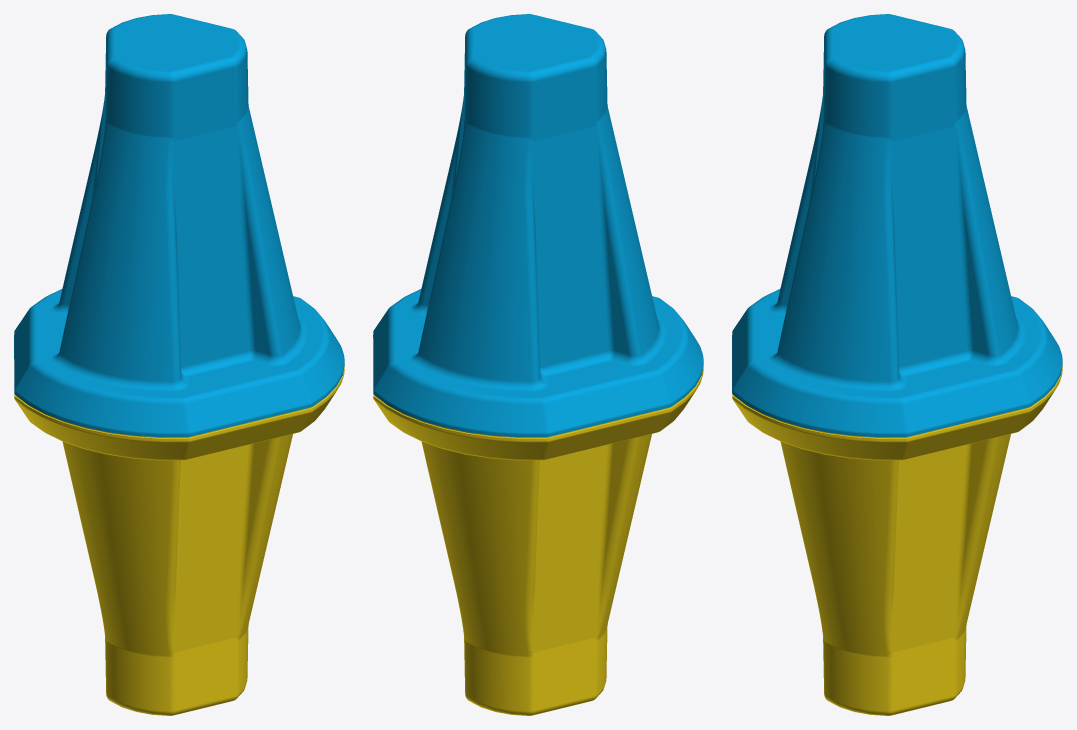
Rendered from V5RC-Override-H2H-_-BlueYellowPin.glb.
3 renders of one model, left to right at view 1: azimuth 30°, elevation 25°; view 2: azimuth 150°, elevation 25°; view 3: azimuth 270°, elevation 25°, orthographic.
Visible parts, largest first — view 1: V5RC-Override-H2H-_-BlueYellowPin; view 2: V5RC-Override-H2H-_-BlueYellowPin; view 3: V5RC-Override-H2H-_-BlueYellowPin.
Boxes of the visible parts, left/top/right/bottom form: V5RC-Override-H2H-_-BlueYellowPin: left=14, top=14, right=344, bottom=715; V5RC-Override-H2H-_-BlueYellowPin: left=373, top=14, right=703, bottom=715; V5RC-Override-H2H-_-BlueYellowPin: left=732, top=14, right=1062, bottom=715.
Bounding box in the file's own units: 0.0801 × 0.165 × 0.0768.
